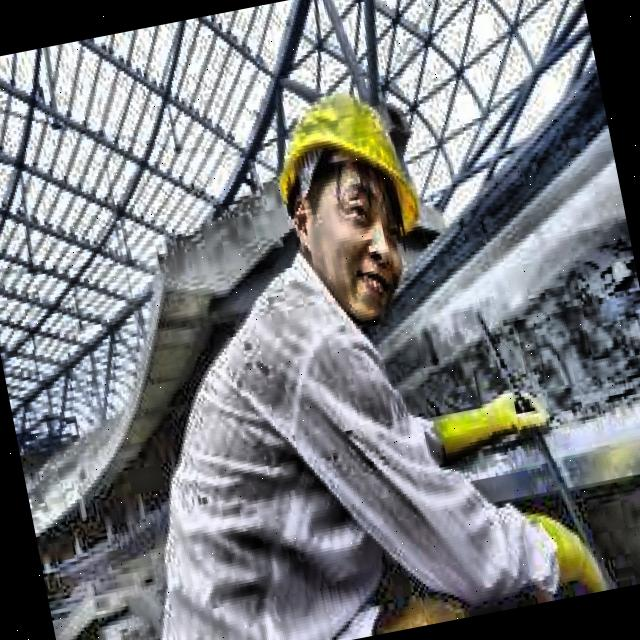helmet: (256, 52, 453, 350)
